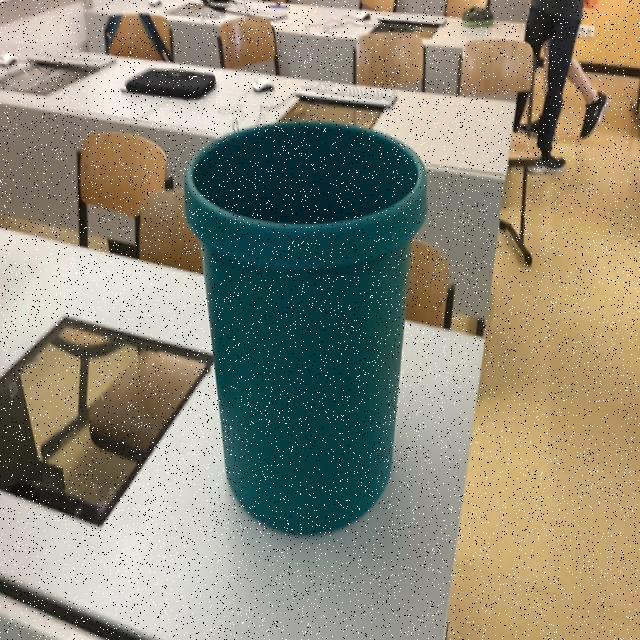garbage container: (166, 88, 454, 565)
